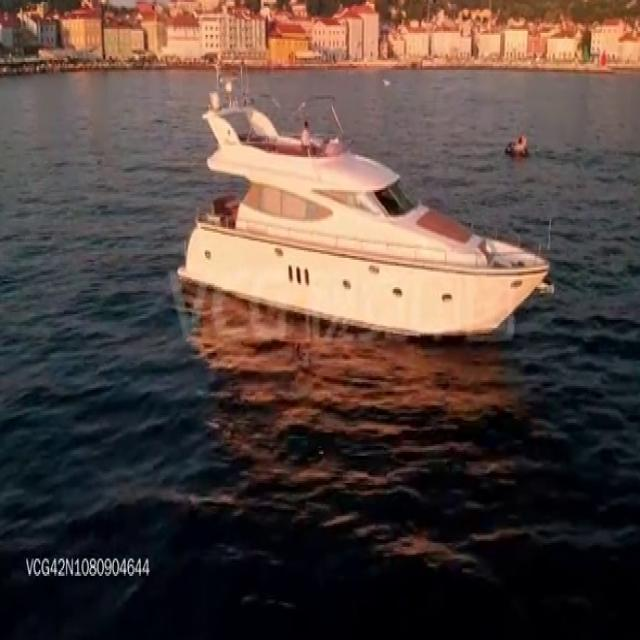houseboat: (173, 72, 556, 340)
